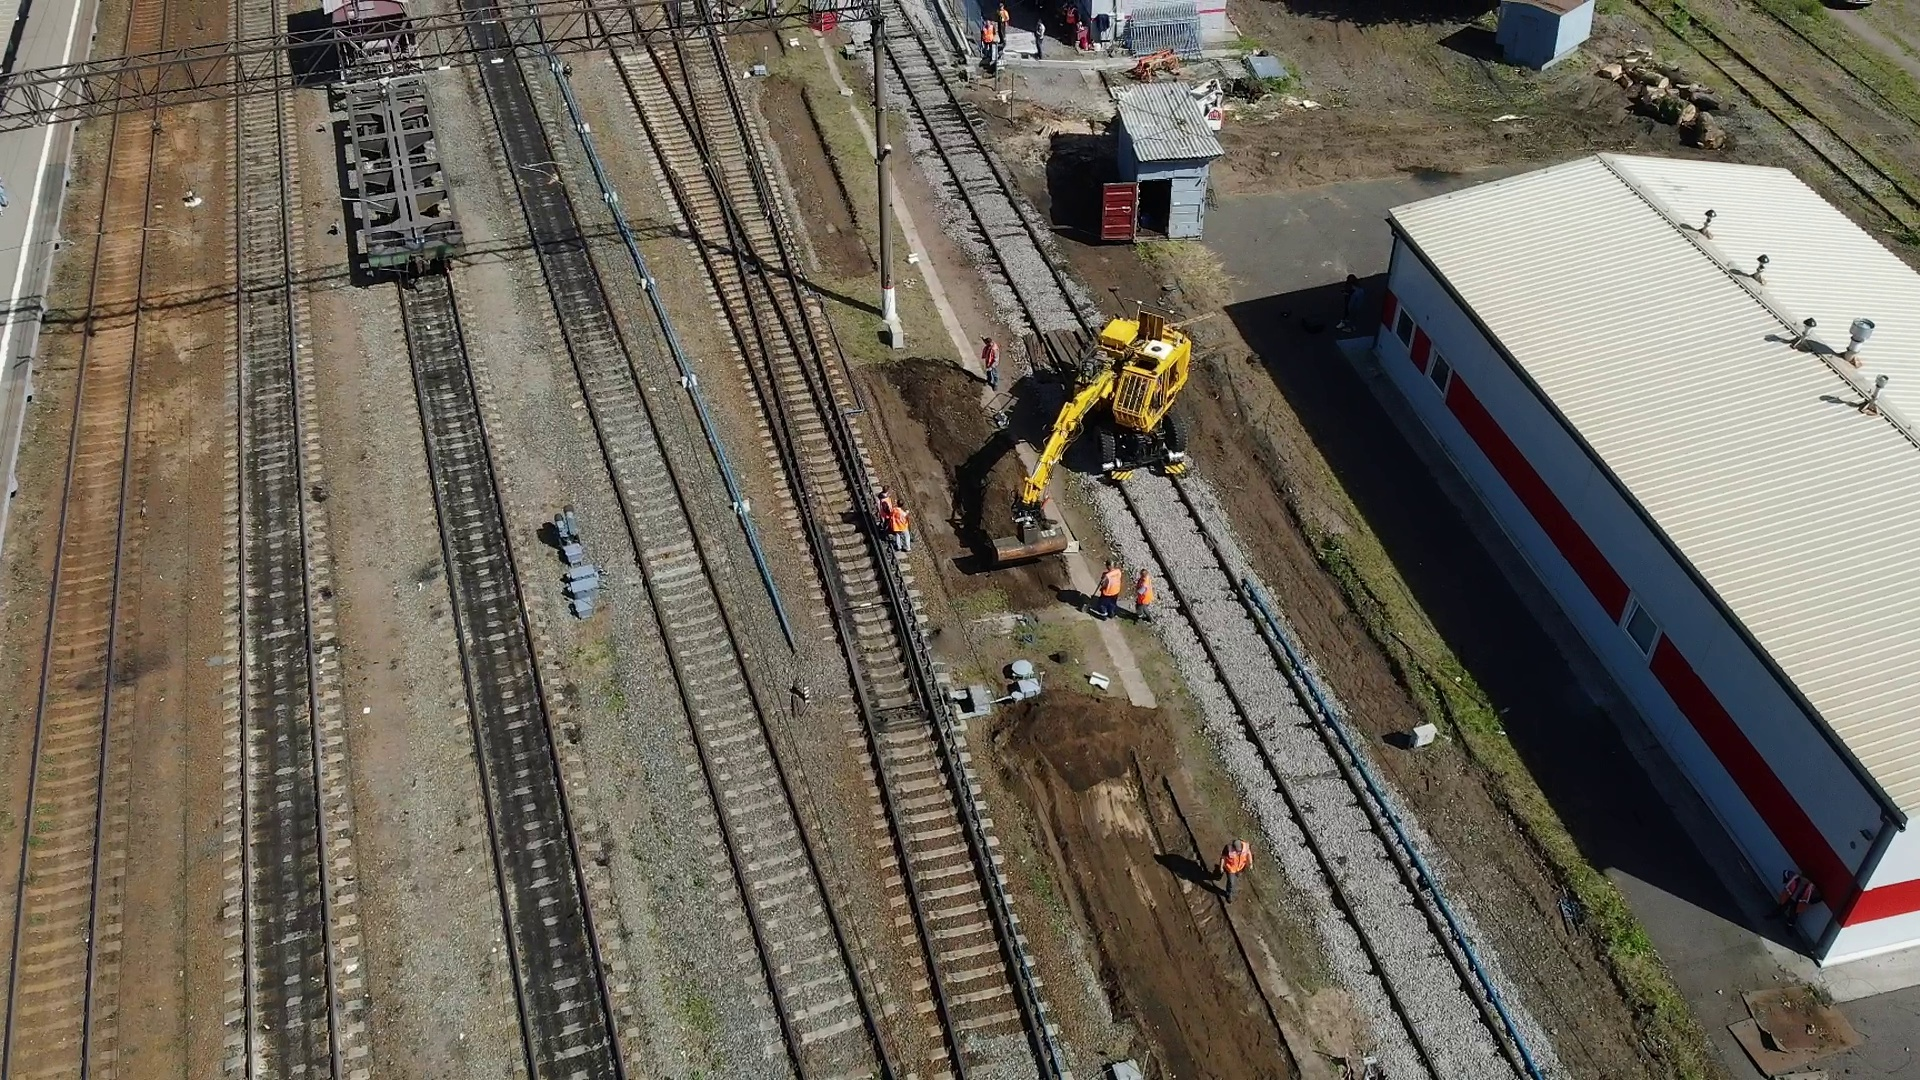kjtv: (1068, 309, 1191, 476)
